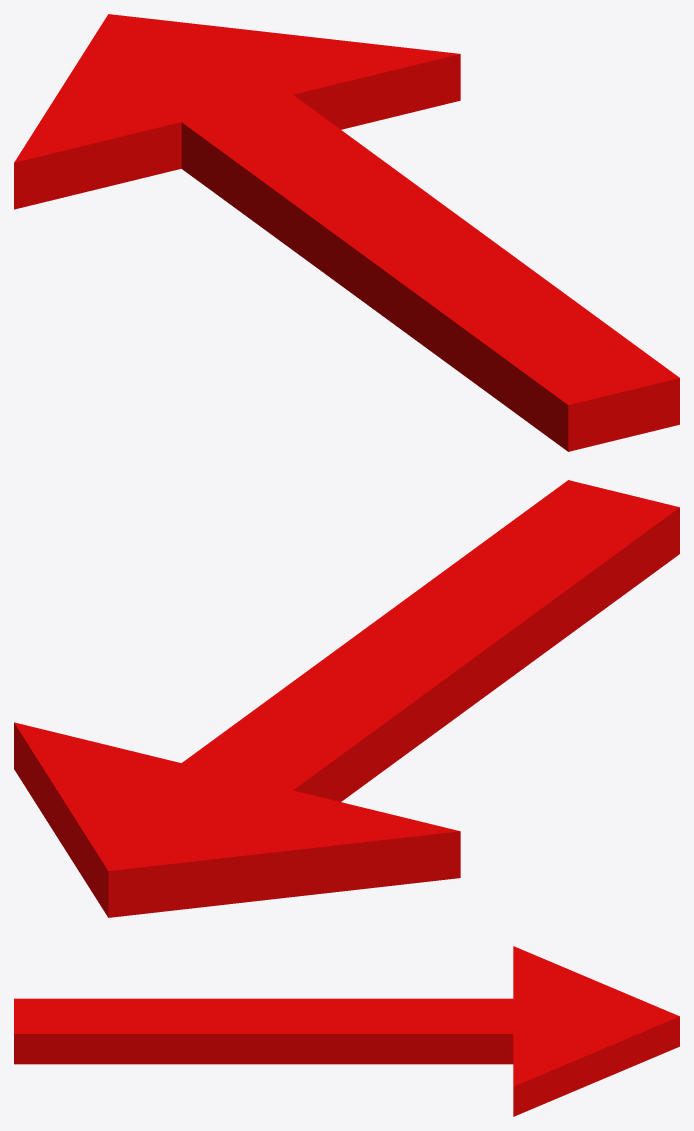
File: arrow_fw.glb
The picture shows the model from 3 angles, top to bottom: view 1: azimuth 30°, elevation 25°; view 2: azimuth 150°, elevation 25°; view 3: azimuth 270°, elevation 25°; orthographic projection. The views are drawn at different scales.
Visible parts, largest first — view 1: Mesh_Mesh_head_geo.001_lambert2SG.003; view 2: Mesh_Mesh_head_geo.001_lambert2SG.003; view 3: Mesh_Mesh_head_geo.001_lambert2SG.003.
Boxes of the visible parts, <box> form: Mesh_Mesh_head_geo.001_lambert2SG.003: <box>14,14,679,451</box>; Mesh_Mesh_head_geo.001_lambert2SG.003: <box>14,480,679,917</box>; Mesh_Mesh_head_geo.001_lambert2SG.003: <box>14,946,679,1116</box>.
Size of the model in its own units: 0.2 by 0.02 by 0.4.
